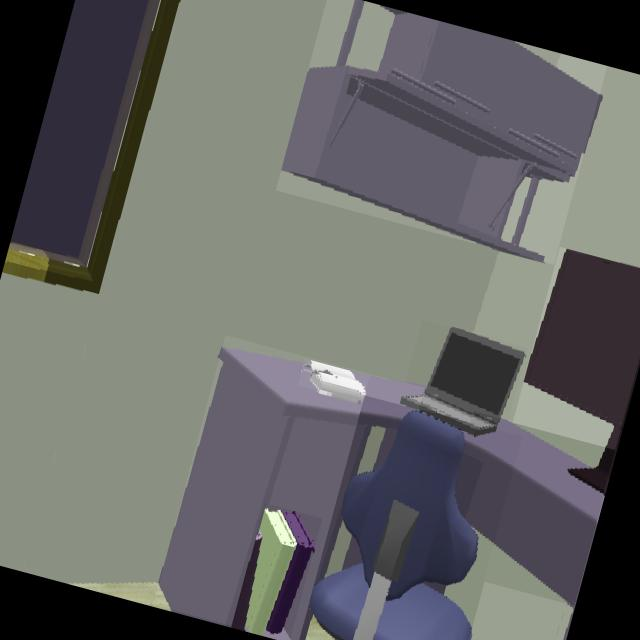book: (232, 511, 314, 634), (302, 359, 364, 402)
chair: (310, 413, 478, 640)
laptop: (400, 328, 524, 437)
monitor: (524, 250, 640, 494)
shelf: (282, 1, 598, 261)
table: (159, 348, 423, 640), (456, 421, 602, 604)
